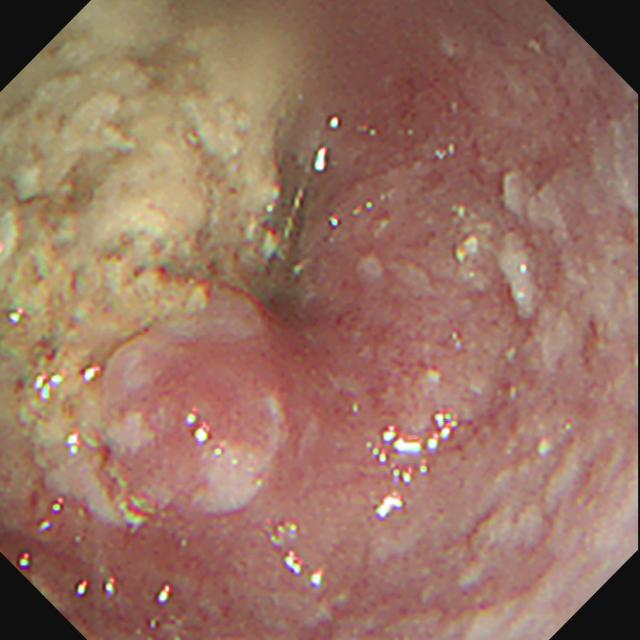A: (301, 161, 519, 457), (105, 309, 309, 541)
B: (2, 7, 289, 308), (2, 310, 148, 466)
U: (379, 425, 423, 455), (428, 411, 458, 453), (186, 409, 212, 446), (375, 495, 406, 522), (35, 373, 63, 401), (392, 466, 429, 483), (286, 552, 304, 577), (313, 148, 330, 174), (82, 365, 104, 384), (156, 585, 174, 604), (67, 434, 80, 456), (327, 114, 342, 132), (9, 310, 27, 325), (18, 552, 32, 570), (76, 580, 90, 597), (53, 497, 66, 515), (311, 570, 323, 587), (105, 578, 114, 597)
